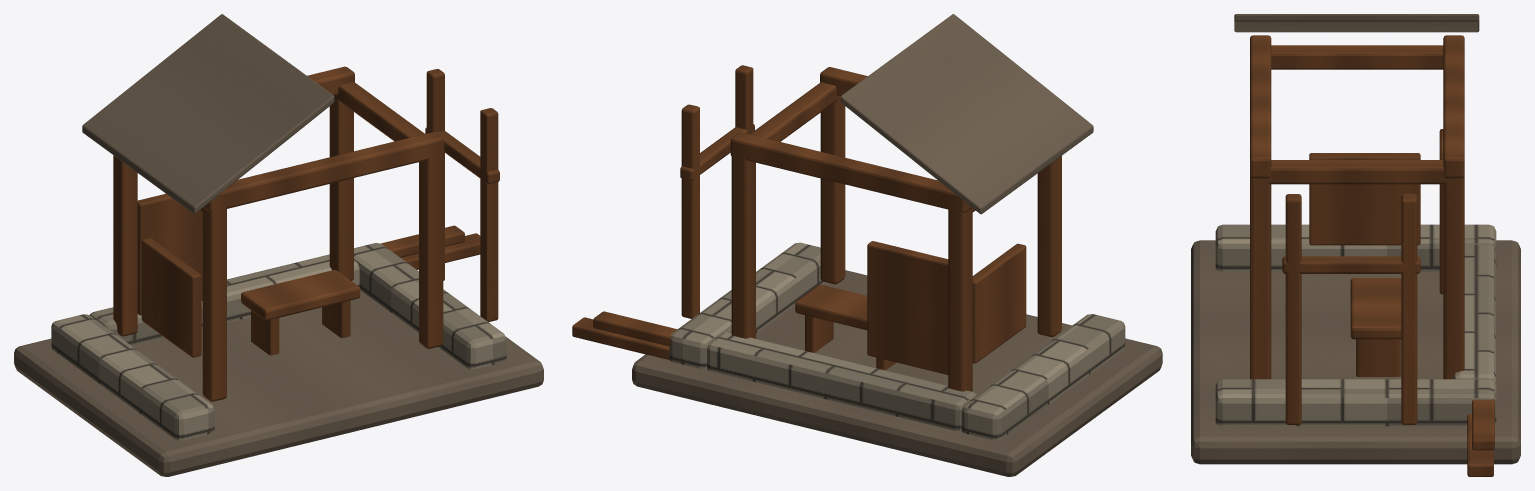
Rendered from SawmillState1V1.glb.
3 views of the same model, side by side, from view 1: azimuth 30°, elevation 25°; view 2: azimuth 150°, elevation 25°; view 3: azimuth 270°, elevation 25° (orthographic). The views are drawn at different scales.
Parts seen in each view (by area): view 1: Sawmill_State1_Foundation, Sawmill_State1_Frame, Sawmill_State1_Roof, Sawmill_State1_Infill, Sawmill_State1_Materials, Sawmill_State1_Scaffold; view 2: Sawmill_State1_Foundation, Sawmill_State1_Frame, Sawmill_State1_Roof, Sawmill_State1_Infill, Sawmill_State1_Materials, Sawmill_State1_Scaffold; view 3: Sawmill_State1_Foundation, Sawmill_State1_Frame, Sawmill_State1_Scaffold, Sawmill_State1_Infill, Sawmill_State1_Materials, Sawmill_State1_Roof.
Part boxes in pixels (<box>): Sawmill_State1_Foundation: <box>14,243,543,476</box>; Sawmill_State1_Frame: <box>113,66,444,401</box>; Sawmill_State1_Roof: <box>82,14,334,213</box>; Sawmill_State1_Infill: <box>137,193,202,357</box>; Sawmill_State1_Materials: <box>241,225,480,355</box>; Sawmill_State1_Scaffold: <box>425,69,499,322</box>; Sawmill_State1_Foundation: <box>632,242,1162,476</box>; Sawmill_State1_Frame: <box>730,67,1061,391</box>; Sawmill_State1_Roof: <box>841,14,1093,214</box>; Sawmill_State1_Infill: <box>867,241,1026,374</box>; Sawmill_State1_Materials: <box>572,284,896,370</box>; Sawmill_State1_Scaffold: <box>680,65,754,318</box>; Sawmill_State1_Foundation: <box>1191,224,1520,464</box>; Sawmill_State1_Frame: <box>1250,35,1464,379</box>; Sawmill_State1_Scaffold: <box>1282,194,1420,424</box>; Sawmill_State1_Infill: <box>1309,129,1443,294</box>; Sawmill_State1_Materials: <box>1350,278,1494,476</box>; Sawmill_State1_Roof: <box>1234,14,1479,32</box>.
Size of the model in its own units: 6.37 by 4.35 by 3.7.
6 materials, 6 textured.
